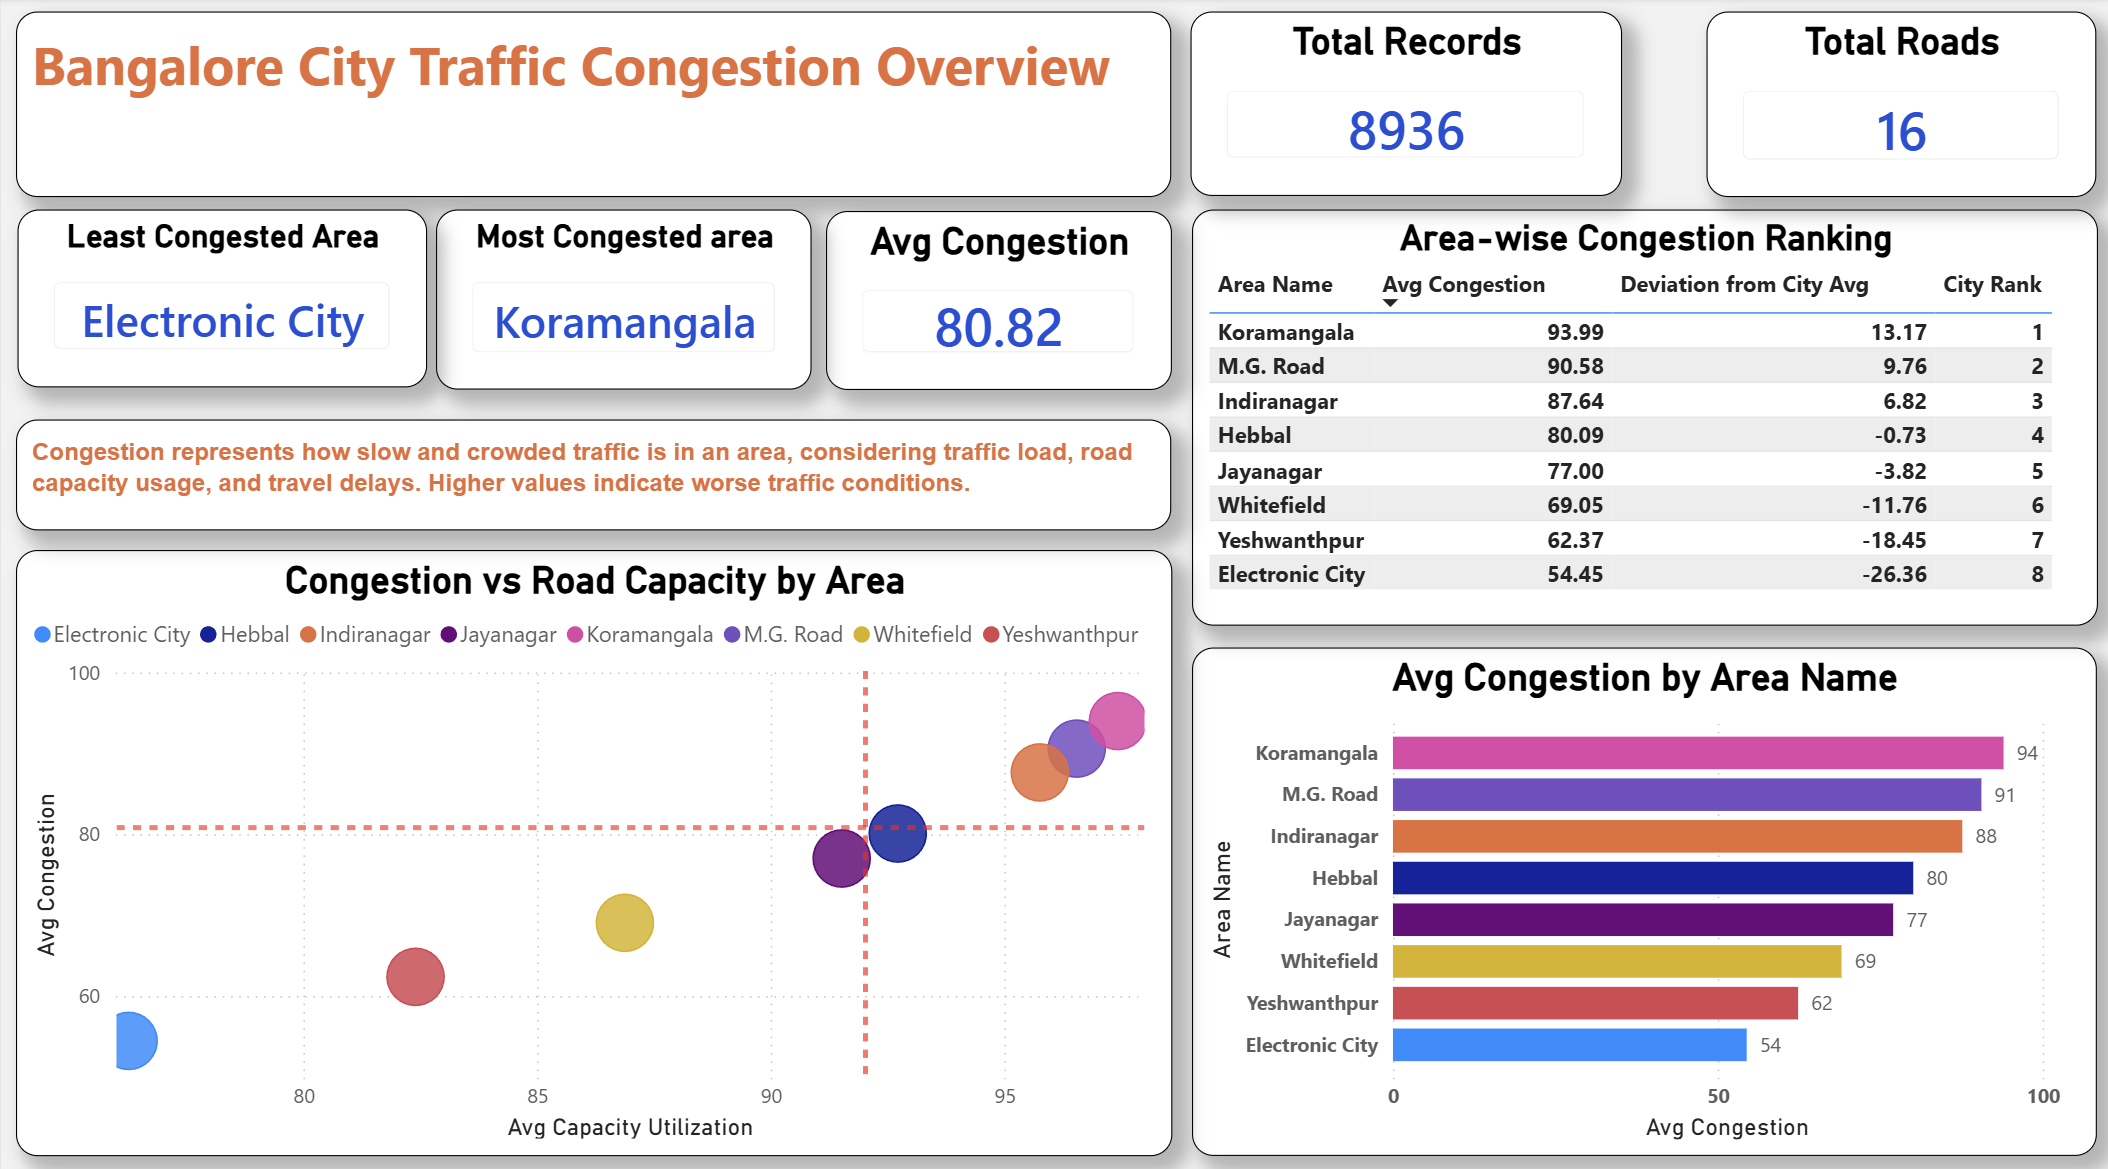

This screenshot's page, from the dashboard's own definition file:
{"tool":"powerbi","page":{"name":"Page 1","canvas":[1280,720],"ordinal":0},"visuals":[{"type":"cardVisual","title":"Total Records","fields":{"Data":["bangalore_traffic traffic_clean.Total Records"]},"box":[722.1,8,261.9,111.7],"z":0,"group":"g1"},{"type":"cardVisual","title":"Most Congested area","fields":{"Data":["bangalore_traffic traffic_clean.Most Congested Area"]},"box":[264.5,128,228.3,109.6],"z":0,"group":"g3"},{"type":"barChart","fields":{"Category":["bangalore_traffic traffic_clean.area_name"],"Y":["bangalore_traffic traffic_clean.Avg Congestion"]},"box":[723,394.3,549.1,308.7],"z":0},{"type":"cardVisual","title":"Least Congested Area","fields":{"Data":["bangalore_traffic traffic_clean.Least Congested Area"]},"box":[10,128,248.4,107.7],"z":1000,"group":"g3"},{"type":"cardVisual","title":"Avg Congestion","fields":{"Data":["bangalore_traffic traffic_clean.City Avg Congestion"]},"box":[501.3,128.7,209.8,108.6],"z":1000,"group":"g2"},{"type":"tableEx","title":"Area-wise Congestion Ranking","fields":{"Values":["bangalore_traffic traffic_clean.area_name","bangalore_traffic traffic_clean.Avg Congestion","bangalore_traffic traffic_clean.Deviation from City Avg","bangalore_traffic traffic_clean.City Rank"]},"box":[723.1,128.7,550.2,252.4],"z":1000},{"type":"scatterChart","title":"Congestion vs Road Capacity by Area","fields":{"X":["bangalore_traffic traffic_clean.Avg Capacity Utilization"],"Y":["bangalore_traffic traffic_clean.Avg Congestion"],"Series":["bangalore_traffic traffic_clean.area_name"],"Size":["bangalore_traffic traffic_clean.Total Roads"]},"box":[9.1,335.1,702.1,367.9],"z":2000},{"type":"textbox","box":[9.1,8,701,112.6],"z":3000},{"type":"group","id":"g1","title":"Group 1","box":[722.1,8,550.2,111.6],"z":4000},{"type":"cardVisual","title":"Total Roads","fields":{"Data":["bangalore_traffic traffic_clean.Total Roads"]},"box":[1035.8,8,236.5,112.6],"z":4000,"group":"g1"},{"type":"group","id":"g2","title":"Group 3","box":[10,128,701.1,109.6],"z":5000},{"type":"group","id":"g3","title":"Group 2","box":[10,128,482.8,109.6],"z":5000,"group":"g2"},{"type":"textbox","box":[9.1,255.5,701,67.4],"z":6000}]}

Visuals, with their boxes in screenshot pixels (x1, y1, x2, y2), scaled from the page's 1280x720 canvas onto the 2108x1169 screenshot:
"Total Records" cardVisual: box(1189, 13, 1621, 194)
"Most Congested area" cardVisual: box(436, 208, 812, 386)
barChart - bangalore_traffic traffic_clean.area_name x bangalore_traffic traffic_clean.Avg Congestion: box(1191, 640, 2095, 1141)
"Least Congested Area" cardVisual: box(16, 208, 426, 383)
"Avg Congestion" cardVisual: box(826, 209, 1171, 385)
"Area-wise Congestion Ranking" tableEx: box(1191, 209, 2097, 619)
"Congestion vs Road Capacity by Area" scatterChart: box(15, 544, 1171, 1141)
textbox: box(15, 13, 1169, 196)
"Group 1" group: box(1189, 13, 2095, 194)
"Total Roads" cardVisual: box(1706, 13, 2095, 196)
"Group 3" group: box(16, 208, 1171, 386)
"Group 2" group: box(16, 208, 812, 386)
textbox: box(15, 415, 1169, 524)
